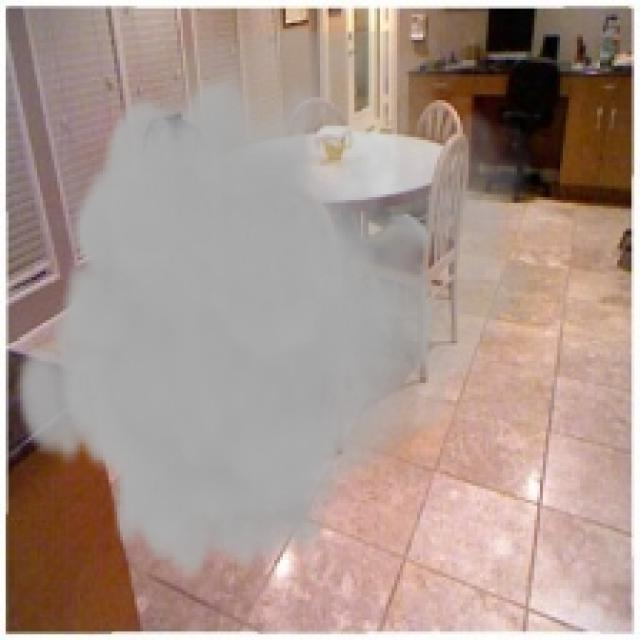Smoke: (11, 31, 548, 583)
